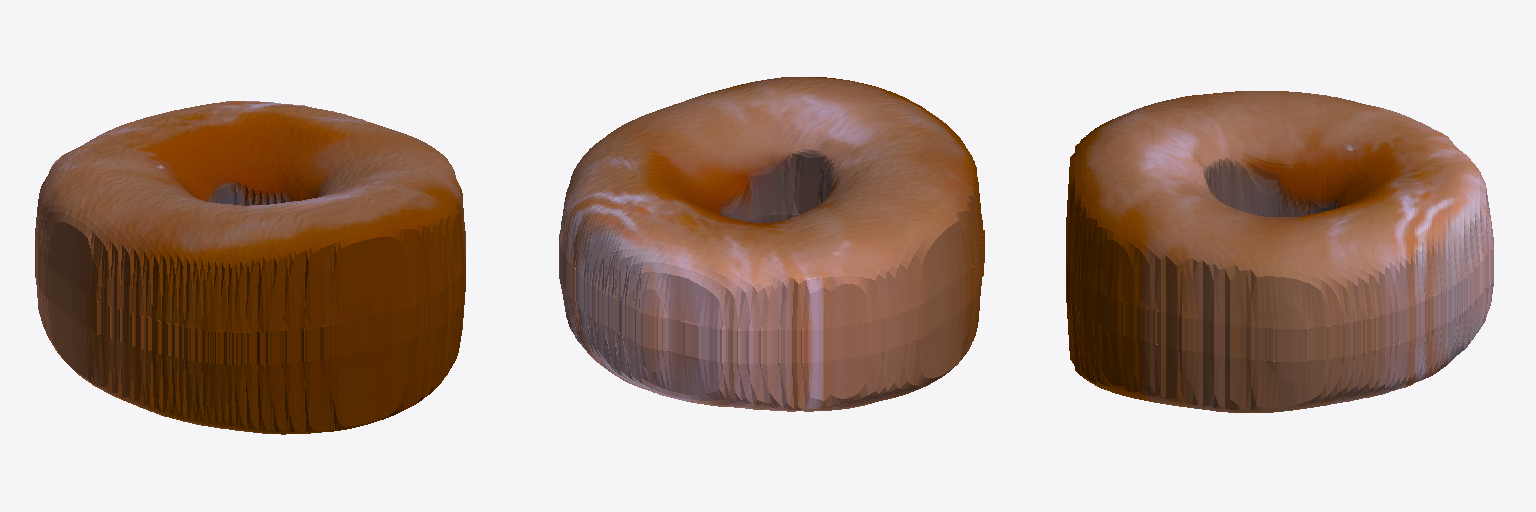
3 renders of one model, left to right at view 1: azimuth 30°, elevation 25°; view 2: azimuth 150°, elevation 25°; view 3: azimuth 270°, elevation 25°, orthographic.
Visible parts, largest first — view 1: Grid; view 2: Grid; view 3: Grid.
Boxes of the visible parts, <box> form: Grid: <box>35,101,465,434</box>; Grid: <box>559,77,984,411</box>; Grid: <box>1066,91,1493,412</box>.
Bounding box in the file's own units: 1.64 × 0.9 × 1.66.
2 materials, 1 textured.